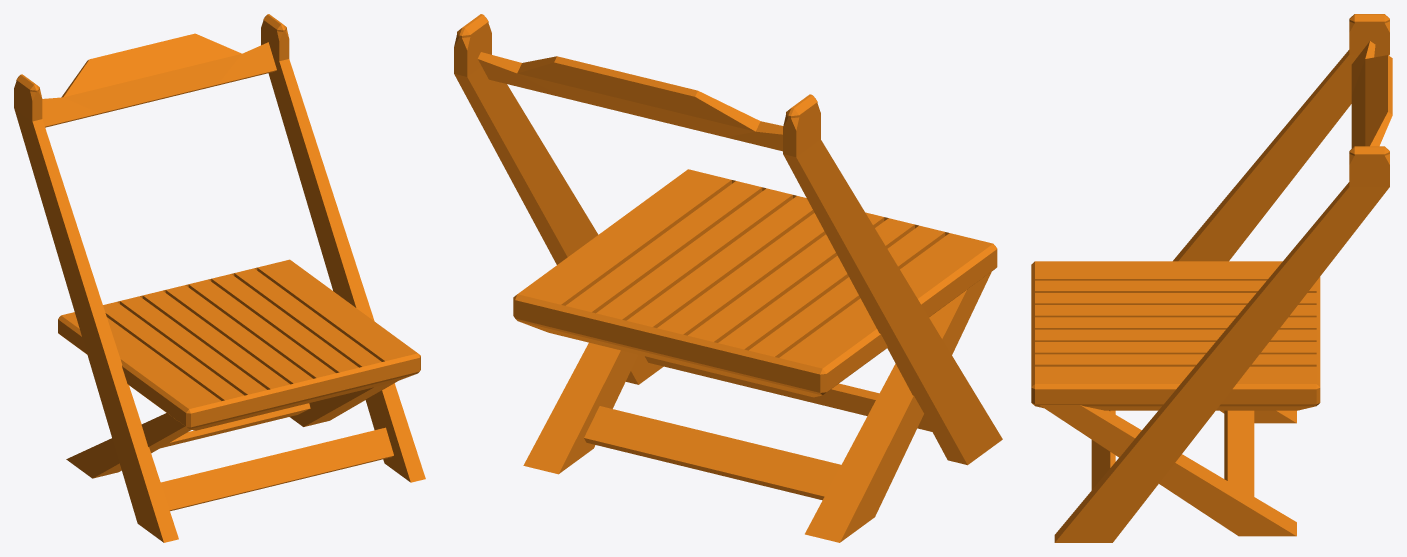
File: SantaMargaretConceptCadeira1.fbx
3 views of the same model, side by side, from view 1: azimuth 30°, elevation 25°; view 2: azimuth 150°, elevation 25°; view 3: azimuth 270°, elevation 25° (orthographic). The views are drawn at different scales.
Visible parts, largest first — view 1: Cube.146; view 2: Cube.146; view 3: Cube.146.
Part boxes in pixels (x1,y1,x2,y2): Cube.146: (14, 14, 425, 542); Cube.146: (454, 14, 1002, 542); Cube.146: (1031, 14, 1392, 542).
Size of the model in its own units: 725 by 944 by 789.
